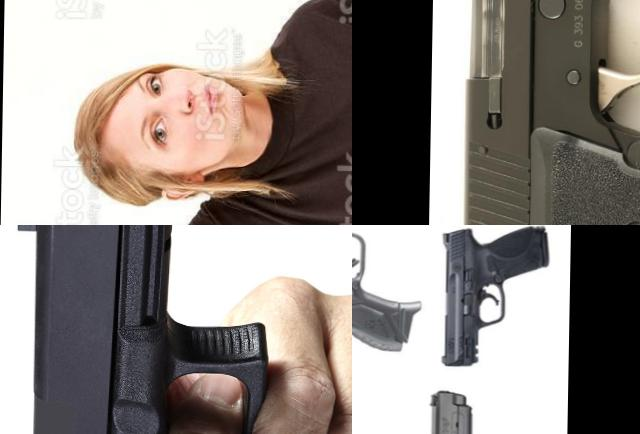handgun: (5, 225, 280, 434), (446, 0, 640, 225), (439, 225, 554, 368), (352, 225, 427, 354), (430, 225, 573, 275), (352, 319, 414, 434), (423, 383, 554, 434), (352, 225, 411, 265)
